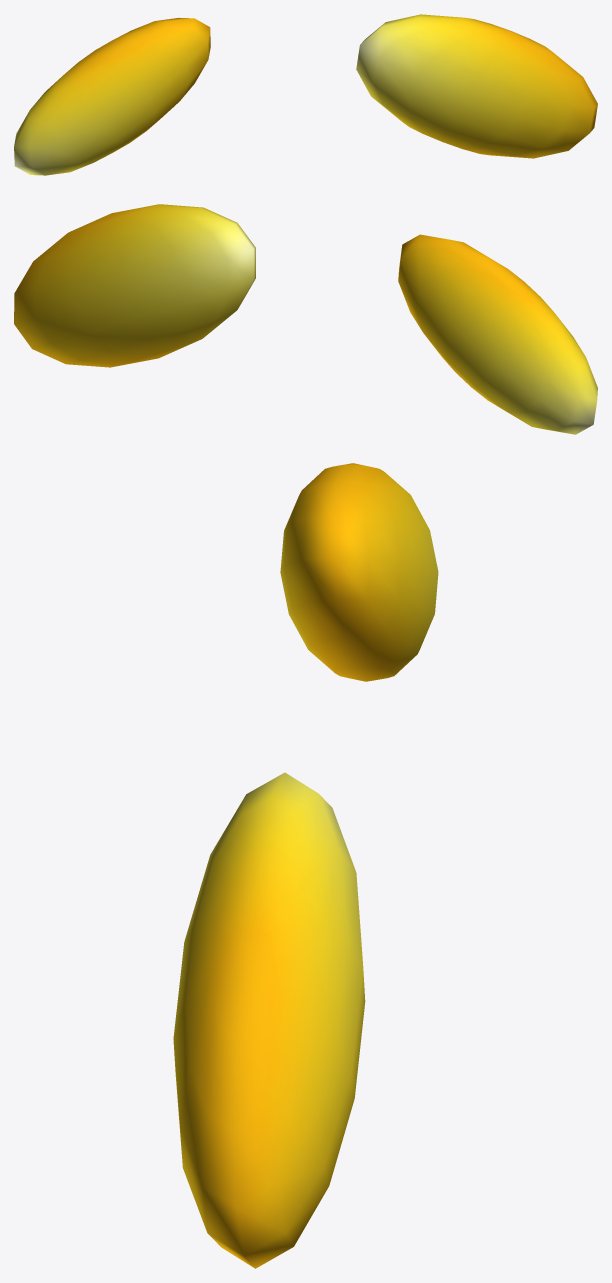
Rendered from creature_eyes.obj.
The picture shows the model from 3 angles, top to bottom: view 1: azimuth 30°, elevation 25°; view 2: azimuth 150°, elevation 25°; view 3: azimuth 270°, elevation 25°; orthographic projection. The views are drawn at different scales.
Parts seen in each view (by area): view 1: creature_eyes; view 2: creature_eyes; view 3: creature_eyes.
Part boxes in pixels (x1,y1,x2,y2): creature_eyes: [14, 14, 597, 175]; creature_eyes: [14, 204, 597, 434]; creature_eyes: [173, 463, 438, 1268].
Size of the model in its own units: 0.3019 by 0.1091 by 0.0633.
Materials: 1 (1 with a texture image).
